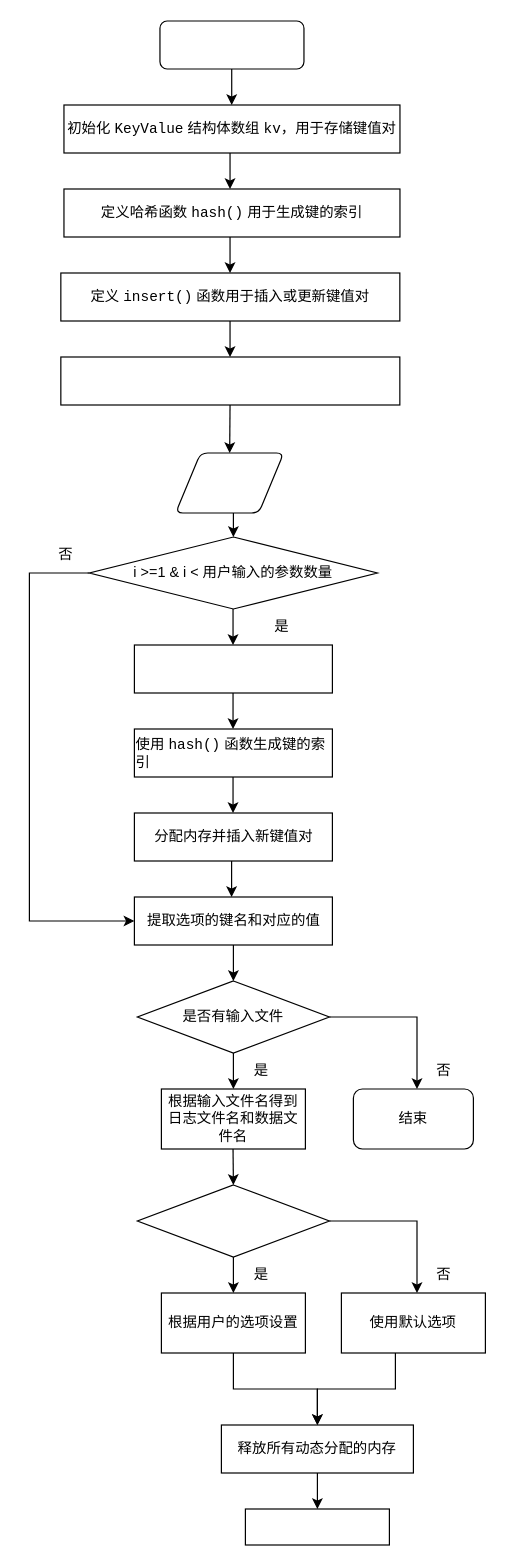
The diagram is 506 pixels wide and 1566 high, and some of its shapes have lost their labels. The shapes that lost their labels are listed below. From the top down, each one's box as (x1, y1, x2, y2) in pixels, then its label:
(159, 20, 304, 69): 开始
(60, 356, 400, 405): 定义 find() 函数用于查找键对应的值
(174, 452, 284, 513): 输入
(133, 644, 332, 693): 检查是否为选项
(136, 1184, 329, 1257): 是否有输入选项
(244, 1508, 389, 1545): 运行程序
